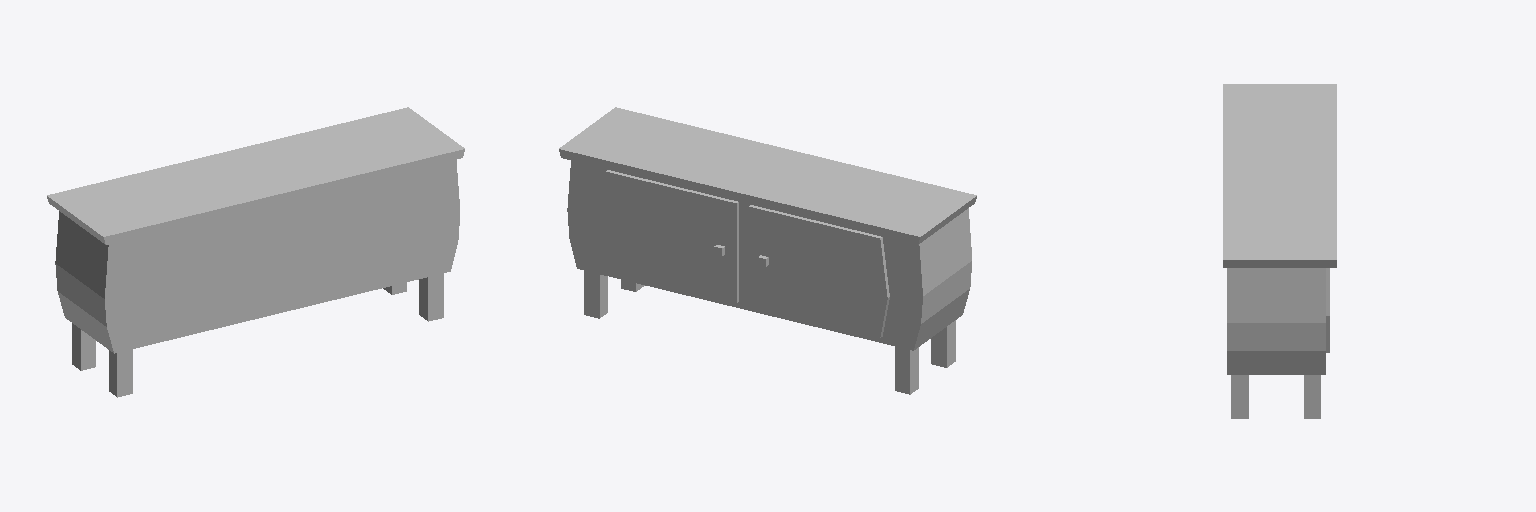
Rendered from Cupboard.obj.
3 views of the same model, side by side, from view 1: azimuth 30°, elevation 25°; view 2: azimuth 150°, elevation 25°; view 3: azimuth 270°, elevation 25° (orthographic).
Parts seen in each view (by area): view 1: Cupboard; view 2: Cupboard; view 3: Cupboard.
Boxes of the visible parts, x1,y1,x2,y2 form: Cupboard: [47, 107, 464, 397]; Cupboard: [559, 107, 976, 394]; Cupboard: [1223, 84, 1336, 418].
Bounding box in the file's own units: 2 × 0.8856 × 0.5457.